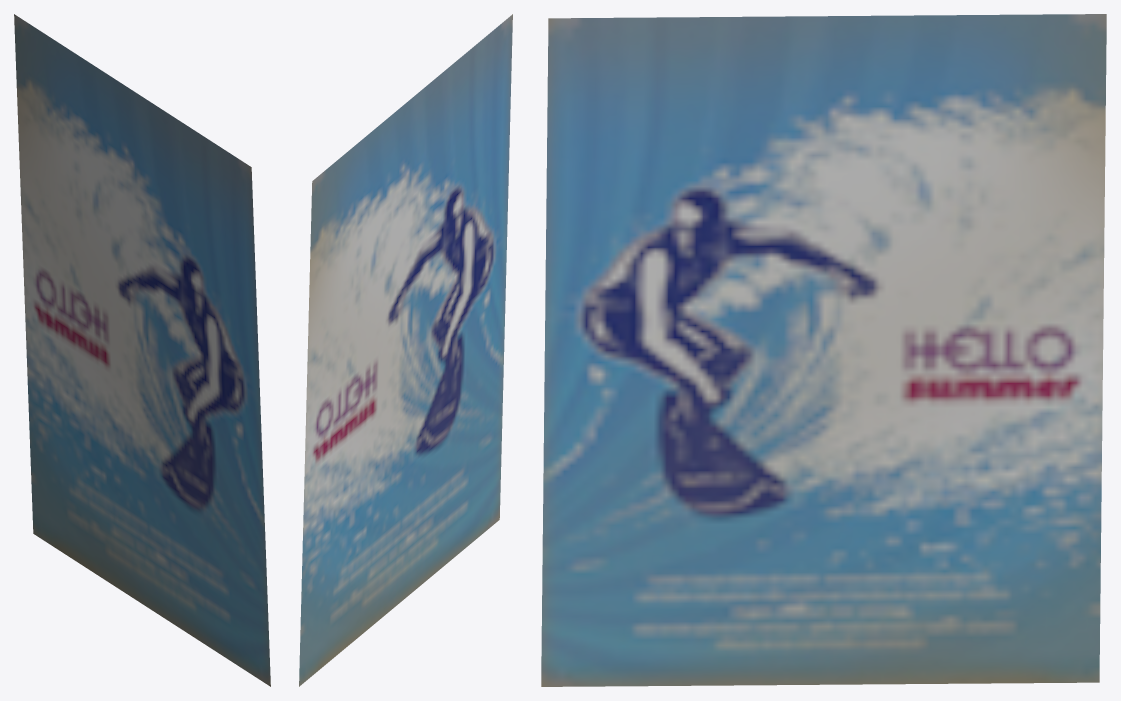
Rendered from CeSuo_01_haibao_01.FBX.
3 views of the same model, side by side, from view 1: azimuth 30°, elevation 25°; view 2: azimuth 150°, elevation 25°; view 3: azimuth 270°, elevation 25° (orthographic). The views are drawn at different scales.
Visible parts, largest first — view 1: CeSuo_01_haibao_01; view 2: CeSuo_01_haibao_01; view 3: CeSuo_01_haibao_01.
Boxes of the visible parts, bbox=[...] form: CeSuo_01_haibao_01: bbox=[14, 14, 270, 686]; CeSuo_01_haibao_01: bbox=[299, 14, 512, 686]; CeSuo_01_haibao_01: bbox=[541, 14, 1106, 686].
Size of the model in its own units: 9.37 by 144 by 111.
